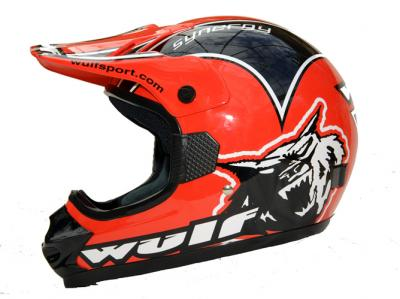helmet: (43, 16, 355, 253)
